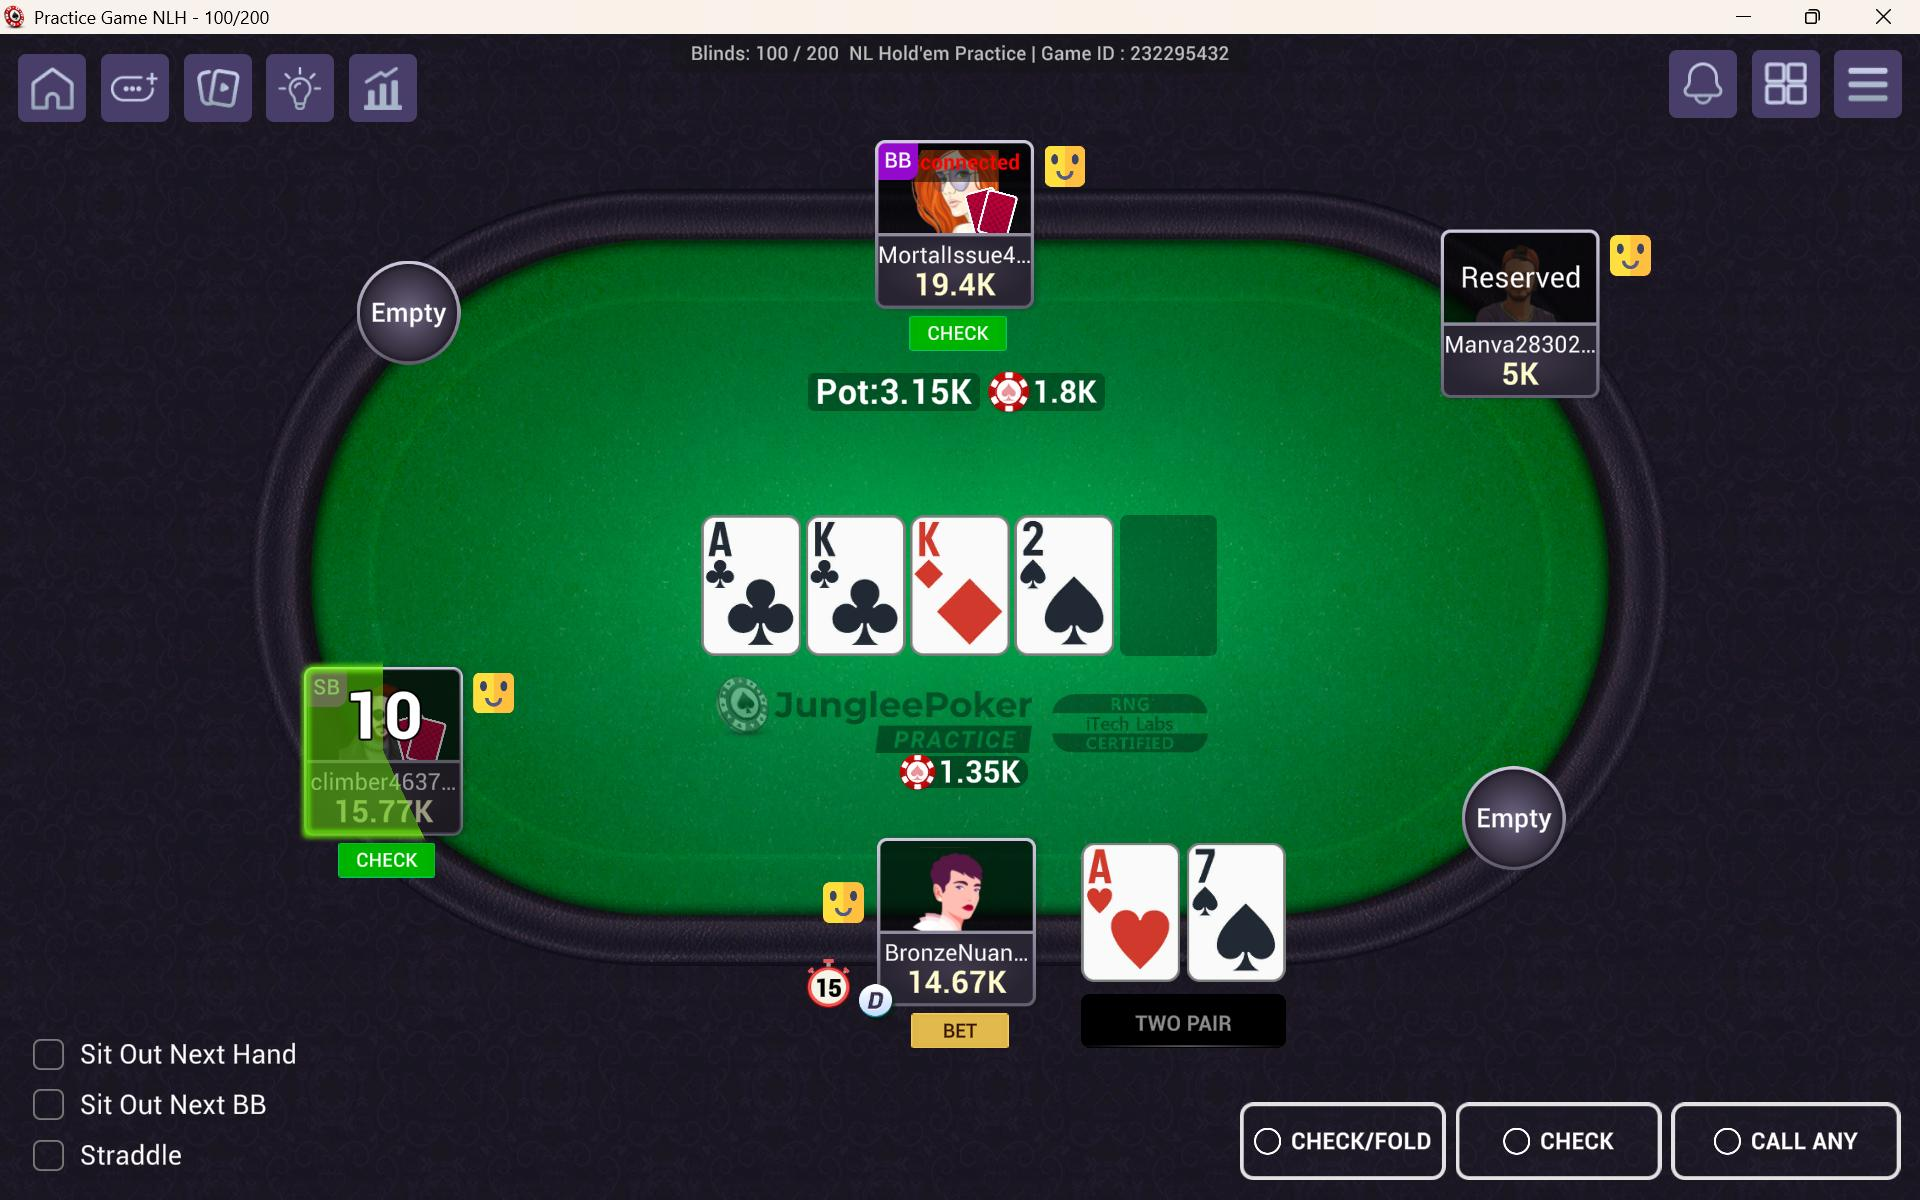card1_rank: (1085, 845, 1152, 890)
card1_suite_heart: (1098, 905, 1180, 980)
card2_rank: (1192, 843, 1238, 900)
card2_suite_spades: (1208, 902, 1285, 978)
flop1_rank: (702, 515, 762, 562)
flop1_suite_club: (717, 570, 802, 650)
flop2_rank: (810, 518, 858, 570)
flop2_suite_club: (820, 570, 902, 655)
flop3_rank: (910, 520, 960, 570)
flop3_suite_diamond: (925, 575, 1005, 650)
game_id: (1037, 40, 1252, 75)
my_bet: (898, 755, 1028, 798)
my_stack: (902, 968, 1032, 1000)
position_BB: (878, 140, 920, 185)
position_SB: (305, 670, 362, 710)
total_pot: (807, 365, 1122, 415)
turn_rank: (1017, 518, 1075, 560)
turn_suite_spades: (1035, 570, 1112, 650)
villian1_name: (300, 758, 465, 790)
villian1_stack: (322, 790, 452, 835)
villian3_name: (872, 240, 1037, 270)
villian3_stack: (895, 270, 1015, 300)
villian4_name: (1448, 322, 1595, 355)
villian4_stack: (1475, 360, 1555, 390)
